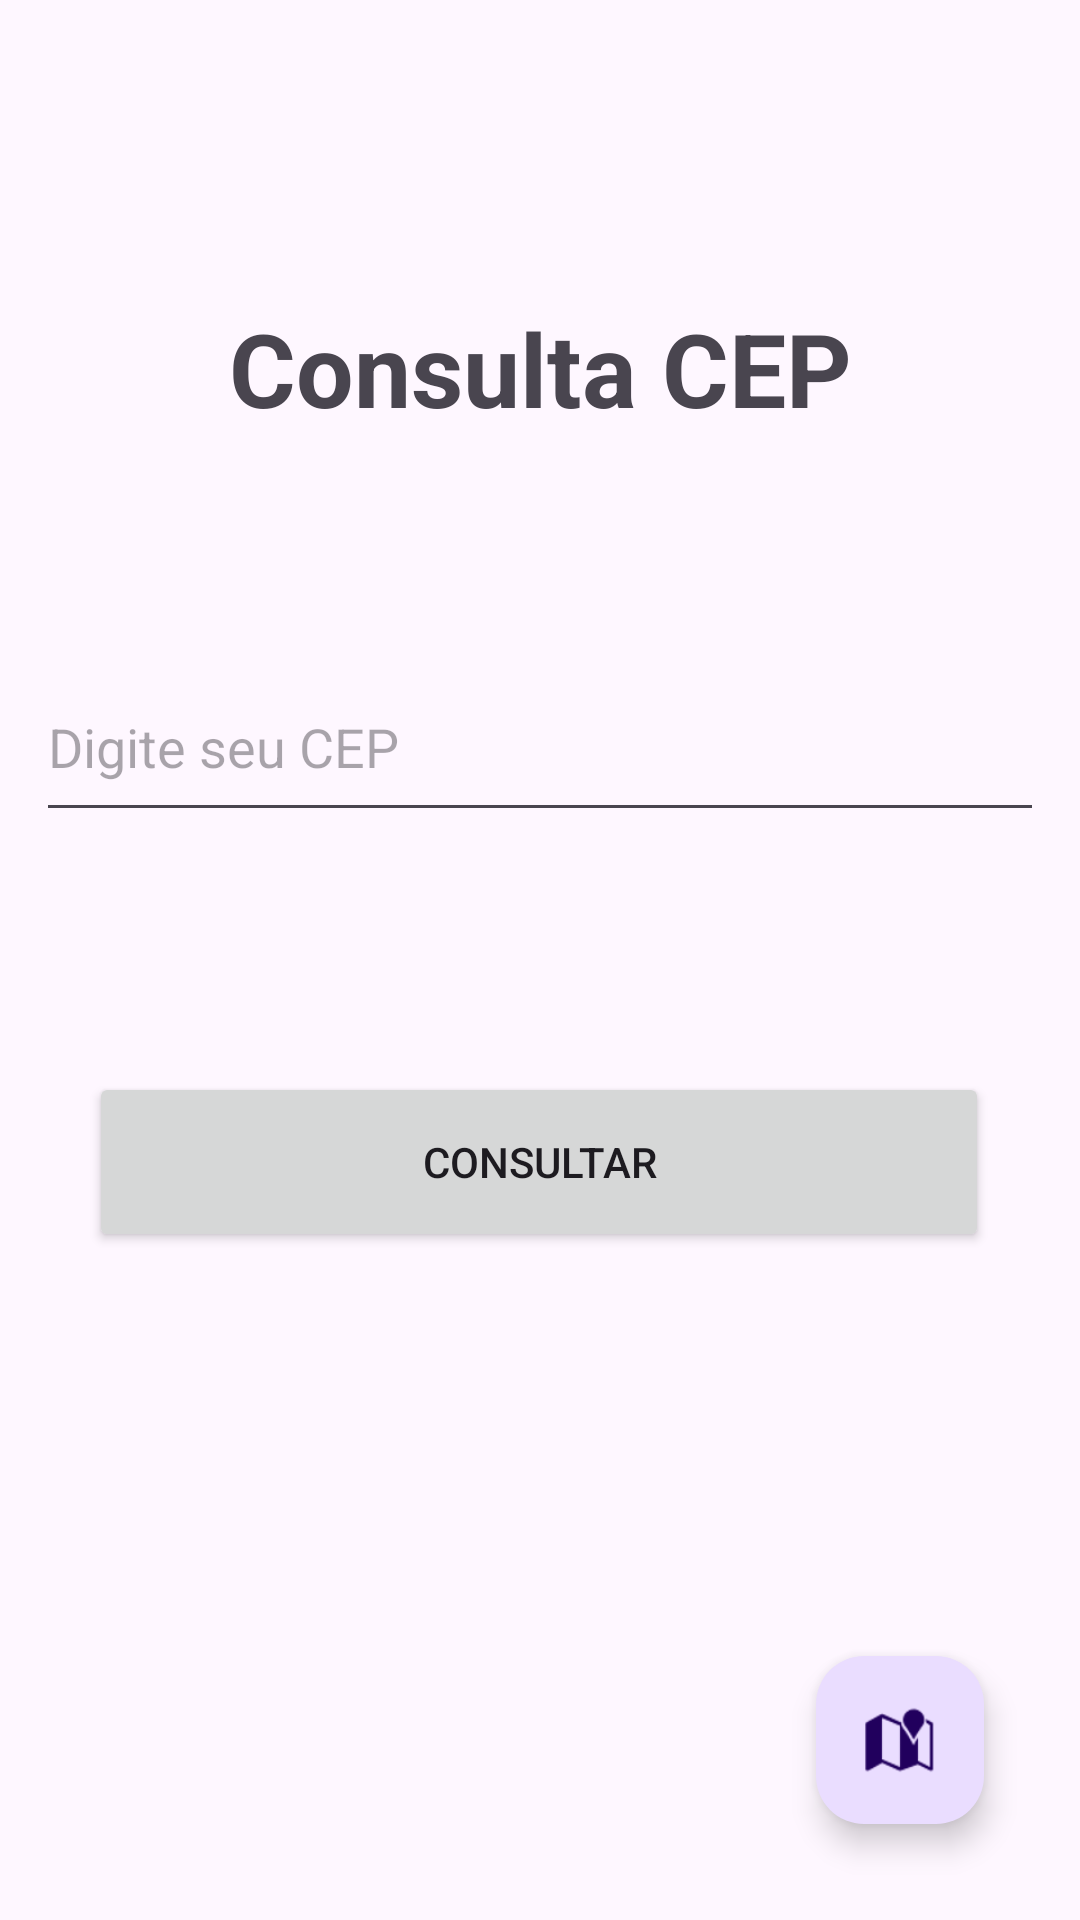

Where icons sit on this 1080 × 1920 app screen, as rect(x1, y1, x2, y2):
ver detalhes do CEP: rect(816, 1656, 984, 1824)
